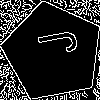J: (28, 27, 79, 61)
